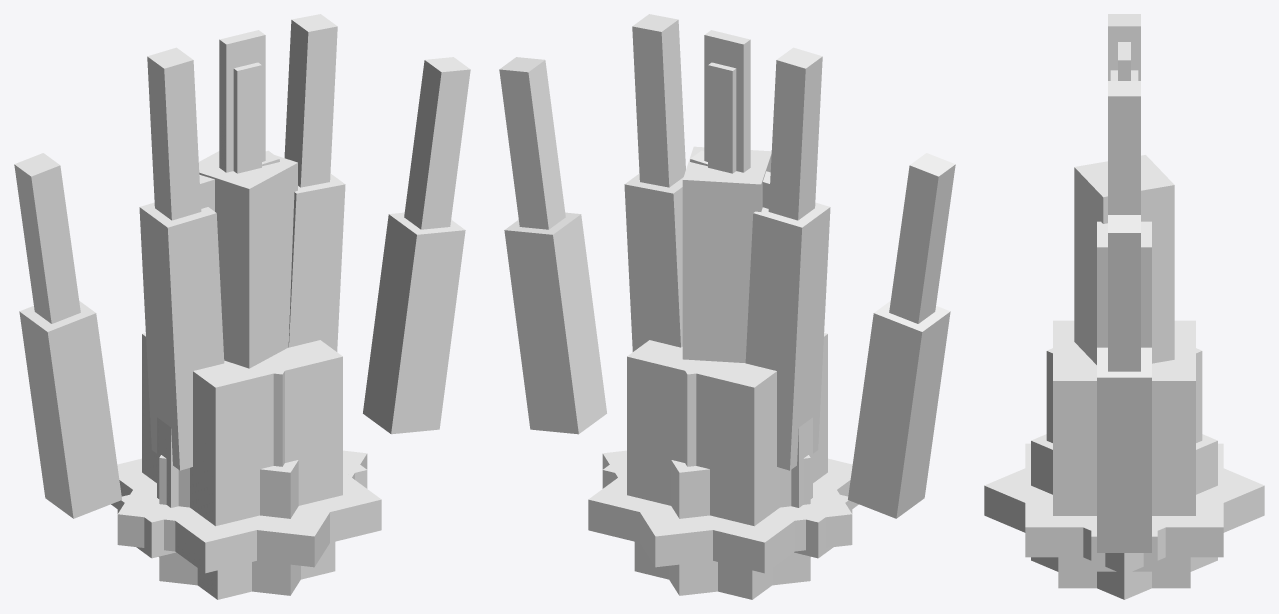
Rendered from effekseer_weapon_shards.gltf.
The picture shows the model from 3 angles, left to right: view 1: azimuth 30°, elevation 25°; view 2: azimuth 150°, elevation 25°; view 3: azimuth 270°, elevation 25°; orthographic projection. The views are drawn at different scales.
Visible parts, largest first — view 1: seg1a, prong_d_base, prong_b_base, prong_a_base, seg2, collar_a, prong_c_base, prong_d_tip, prong_b_tip, prong_c_tip, prong_a_tip, core_b (+8 smaller); view 2: seg1a, prong_d_base, prong_b_base, prong_a_base, seg2, prong_c_base, collar_a, prong_d_tip, prong_c_tip, prong_b_tip, prong_a_tip, core_b (+7 smaller); view 3: seg1a, prong_d_base, seg2, collar_a, collar_b, prong_d_tip, prong_c_tip, core_b, prong_c_base, core_a, seg1b, prong_b_tip (+2 smaller).
Part boxes in pixels (x1,y1,x2,y2): seg1a: [142, 333, 342, 526]; prong_d_base: [363, 212, 465, 434]; prong_b_base: [139, 202, 224, 470]; prong_a_base: [19, 301, 121, 518]; seg2: [198, 151, 297, 368]; collar_a: [111, 458, 381, 573]; prong_c_base: [288, 173, 345, 351]; prong_d_tip: [404, 57, 470, 229]; prong_b_tip: [147, 47, 201, 220]; prong_c_tip: [284, 14, 337, 187]; prong_a_tip: [14, 153, 80, 323]; core_b: [159, 455, 300, 595]; seg1a: [627, 333, 827, 526]; prong_d_base: [504, 212, 606, 434]; prong_b_base: [745, 202, 830, 470]; prong_a_base: [848, 301, 950, 518]; seg2: [682, 146, 771, 363]; prong_c_base: [624, 173, 683, 351]; collar_a: [588, 458, 858, 573]; prong_d_tip: [499, 57, 565, 229]; prong_c_tip: [632, 14, 685, 187]; prong_b_tip: [768, 47, 822, 220]; prong_a_tip: [889, 153, 955, 323]; core_b: [669, 455, 810, 595]; seg1a: [1053, 320, 1195, 515]; prong_d_base: [1097, 347, 1151, 552]; seg2: [1074, 155, 1174, 364]; collar_a: [1025, 443, 1223, 557]; collar_b: [984, 468, 1264, 574]; prong_d_tip: [1108, 215, 1140, 371]; prong_c_tip: [1108, 81, 1140, 214]; core_b: [1031, 434, 1217, 599]; prong_c_base: [1097, 221, 1151, 347]; core_a: [1058, 557, 1190, 588]; seg1b: [1046, 347, 1202, 442]; prong_b_tip: [1108, 14, 1140, 80].
Bounding box in the file's own units: 0.56 × 0.6375 × 0.3182.
Materials: 1 (1 with a texture image).
